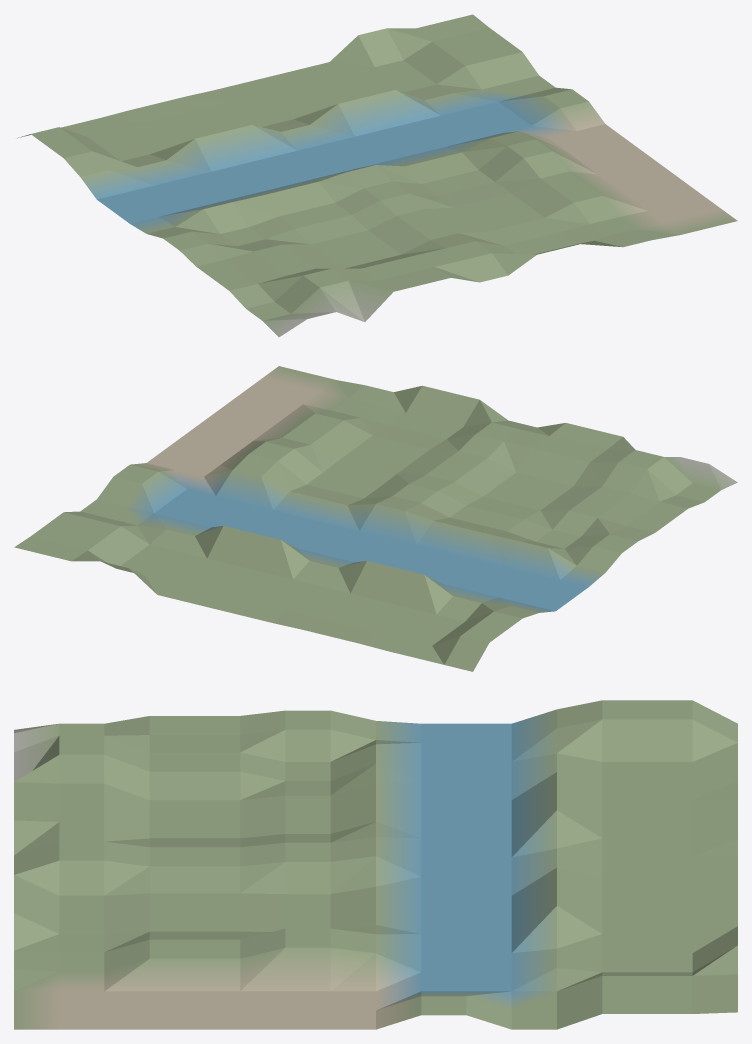
The picture shows the model from 3 angles, top to bottom: view 1: azimuth 30°, elevation 25°; view 2: azimuth 150°, elevation 25°; view 3: azimuth 270°, elevation 25°; orthographic projection. The views are drawn at different scales.
Bounding box in the file's own units: 32 × 2.06 × 32.
